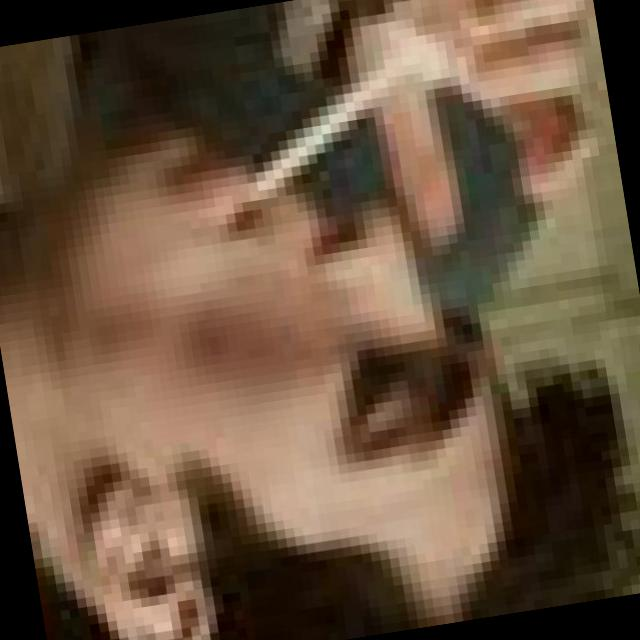cigarette: (184, 33, 460, 236)
